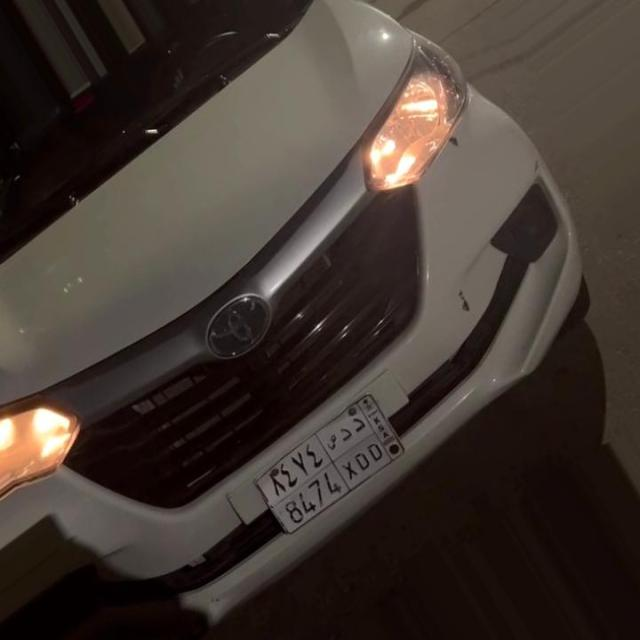Car-plate: (239, 374, 423, 563)
